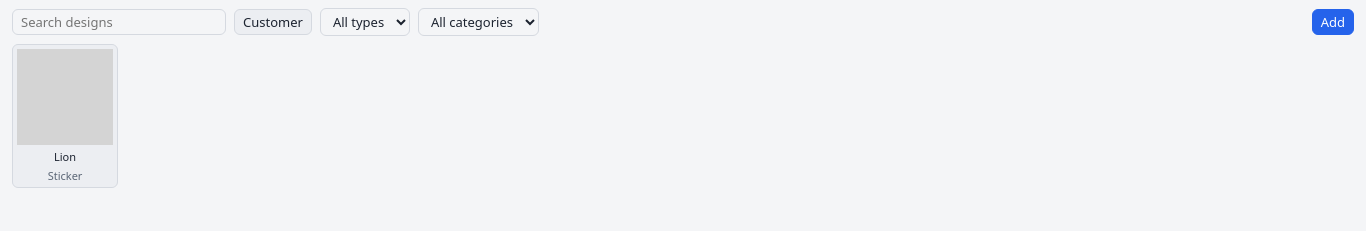
Test: CatalogueTab › keeps loaded thumbnails and shows the offline message on failure
Select "sticker" in the dropdown named "Type". click: (365, 22)
box: x1=320 y1=8 x2=410 y2=36
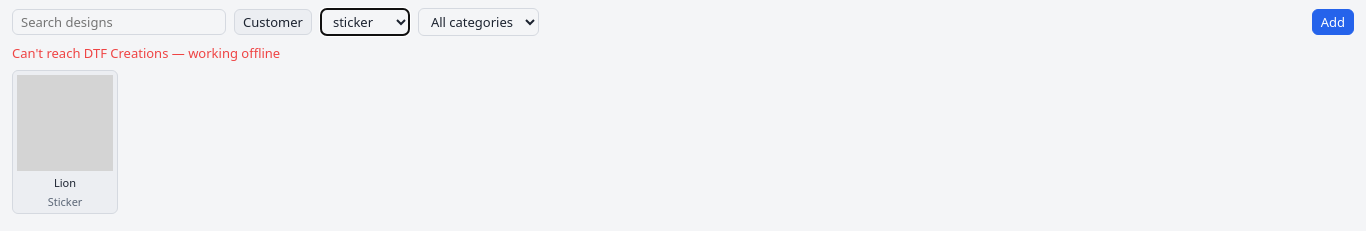
Result: the text "Can't reach DTF Creations — working offline" is shown at x1=12 y1=44 x2=280 y2=62
